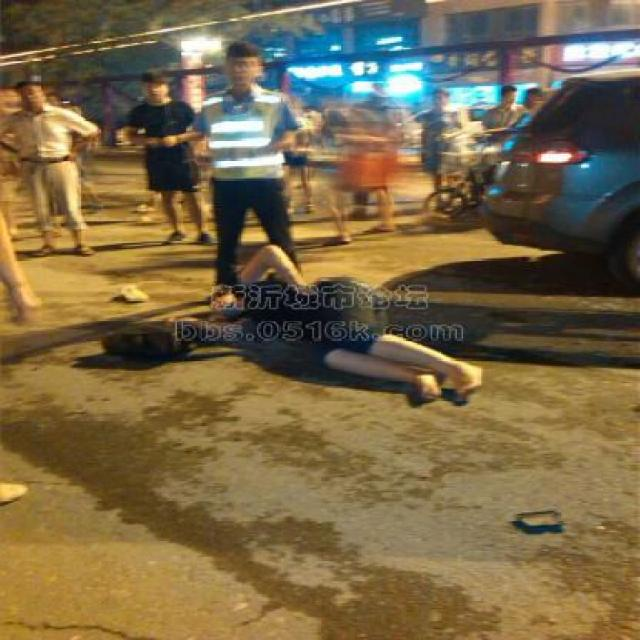fall: (88, 241, 483, 414)
